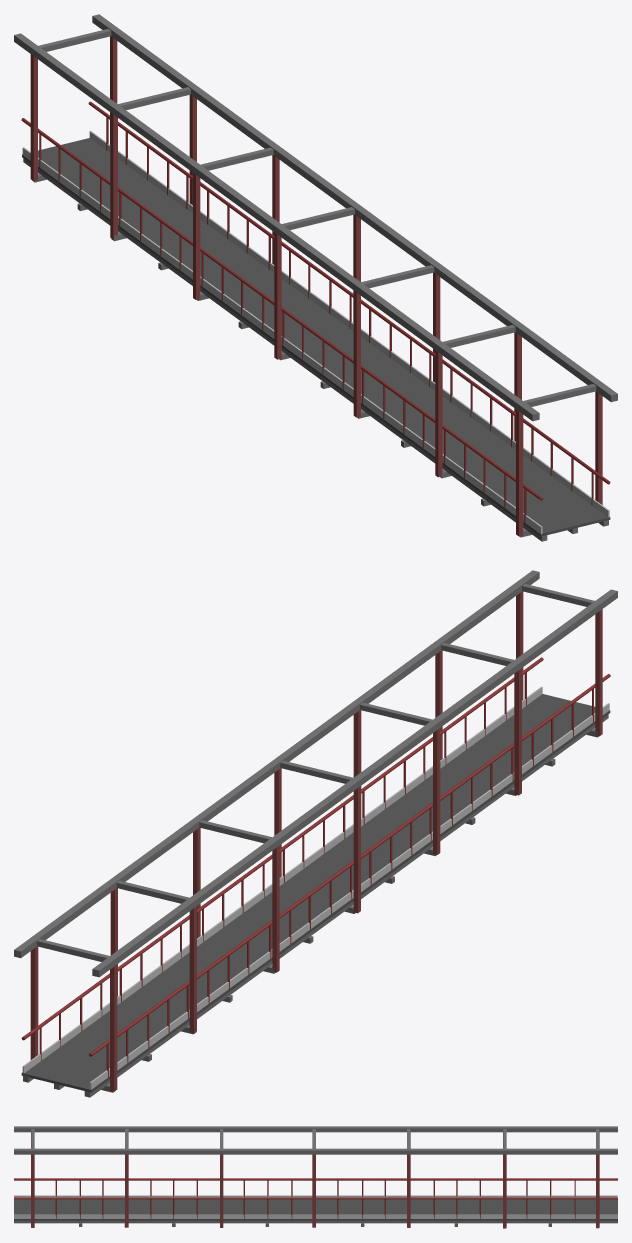
File: CeilingCatwalk.fbx
3 renders of one model, top to bottom at view 1: azimuth 30°, elevation 25°; view 2: azimuth 150°, elevation 25°; view 3: azimuth 270°, elevation 25°, orthographic. The views are drawn at different scales.
Parts seen in each view (by area): view 1: polySurface85; view 2: polySurface85; view 3: polySurface85.
Part boxes in pixels (x1=…): polySurface85: x1=14, y1=14, x2=617, y2=541; polySurface85: x1=14, y1=570, x2=617, y2=1097; polySurface85: x1=14, y1=1126, x2=617, y2=1228.
Bounding box in the file's own units: 3.87 × 5.82 × 40.76.
